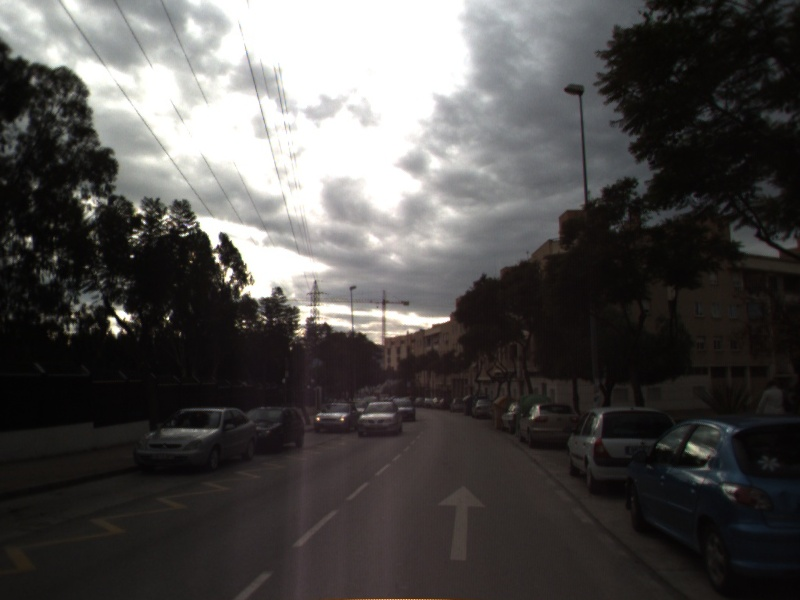STRAIGHT: (435, 483, 489, 562)
